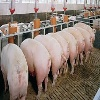heo: (2, 47, 29, 94), (26, 41, 49, 81), (51, 44, 67, 76), (67, 33, 77, 73), (85, 32, 94, 64), (79, 35, 85, 67), (64, 42, 70, 71), (88, 27, 98, 40)
